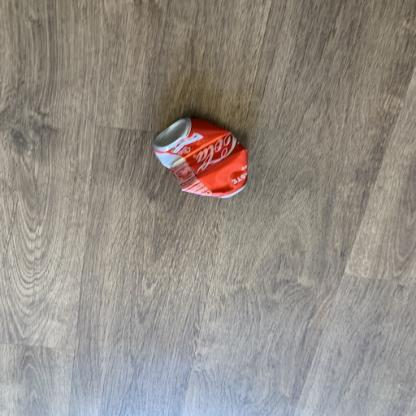trash: (137, 109, 283, 210)
